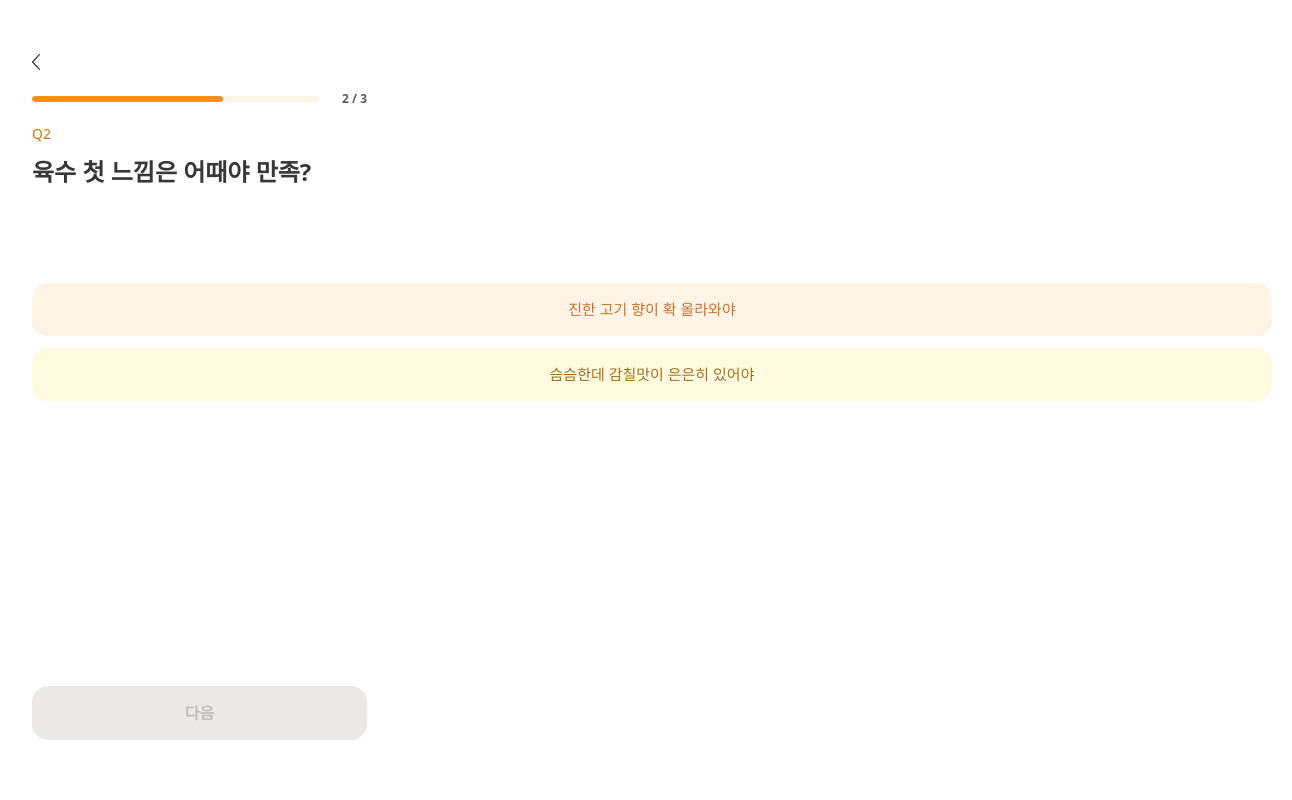
Test: 경험자 문항 플로우 › 다음을 누르면 다음 문항으로 넘어간다
Click the button "진한 고기 향이 확 올라와야". click: point(652, 310)
box: [32,283,1272,336]
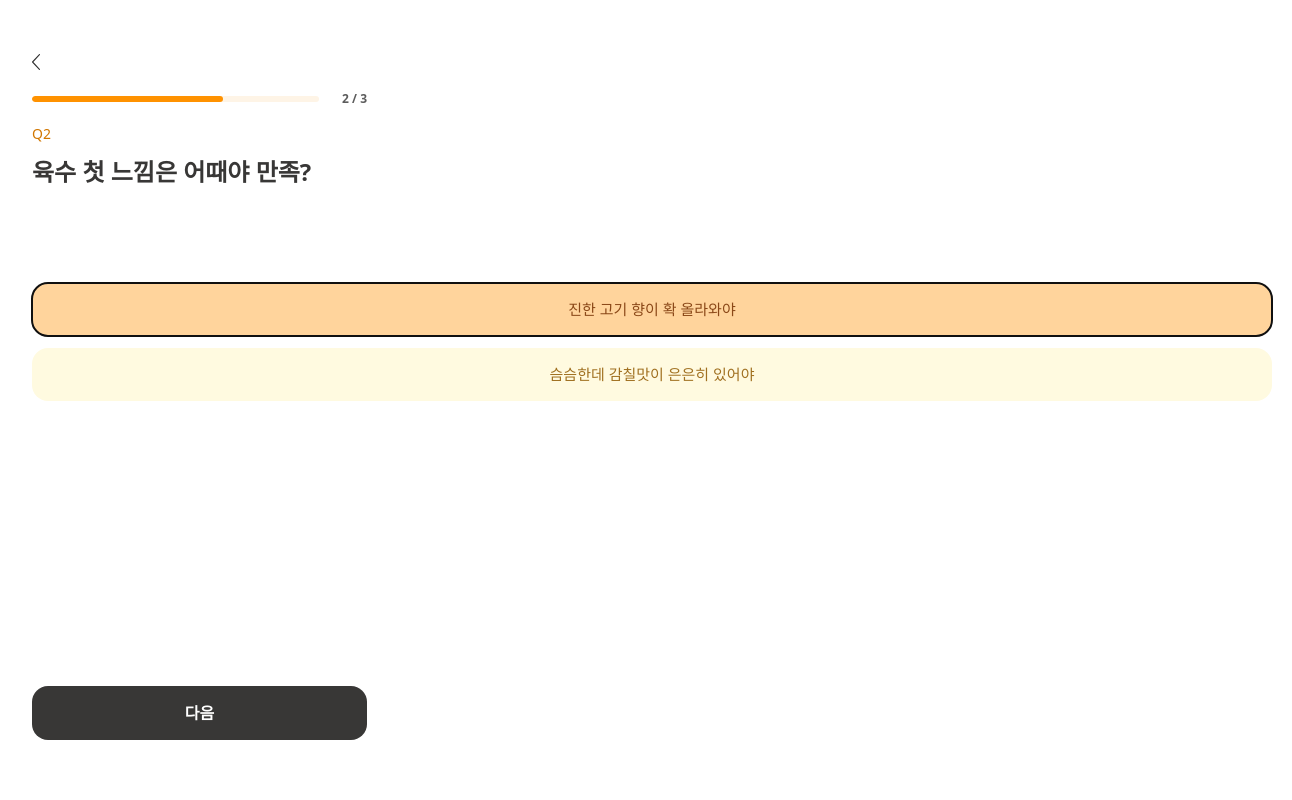
Click the button "다음". click: point(200, 713)
box: [32,686,367,740]
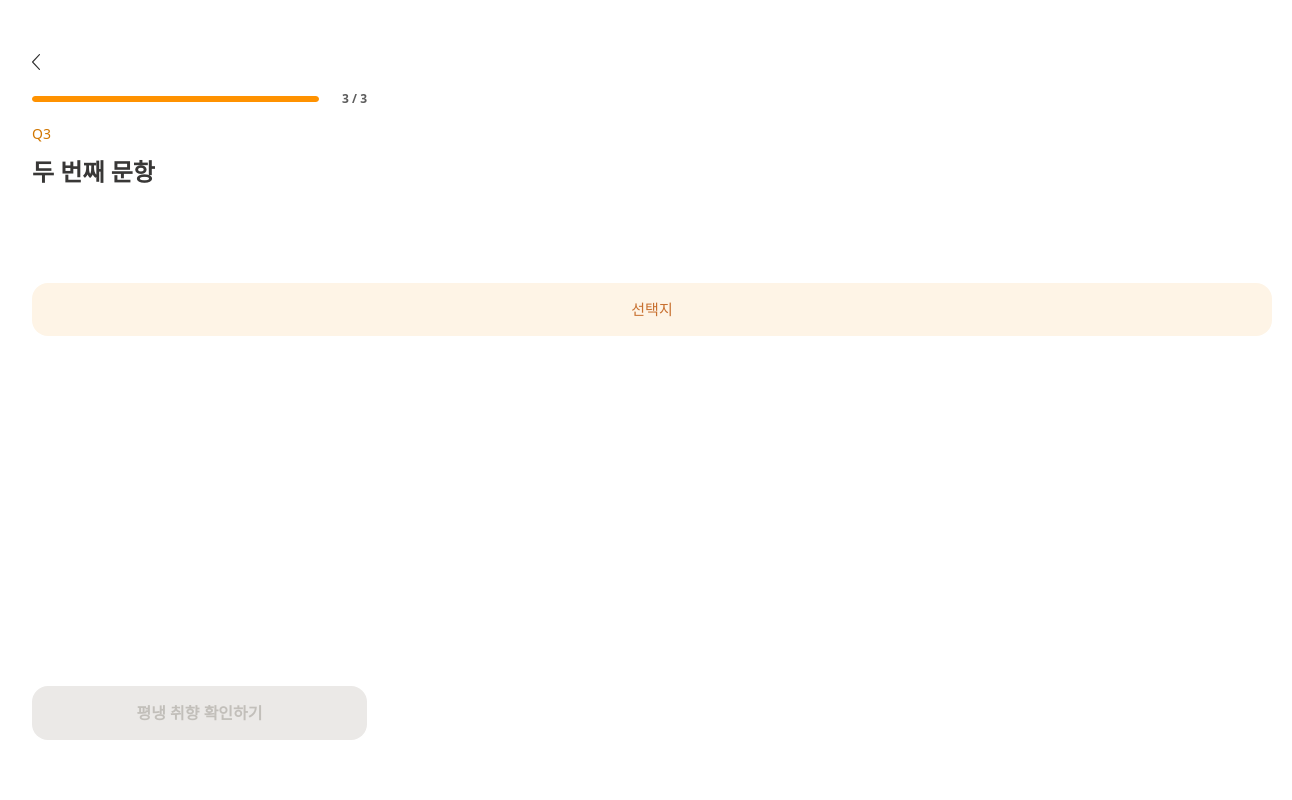
Check: the text "Q3" is shown, box [32,124,51,143]
